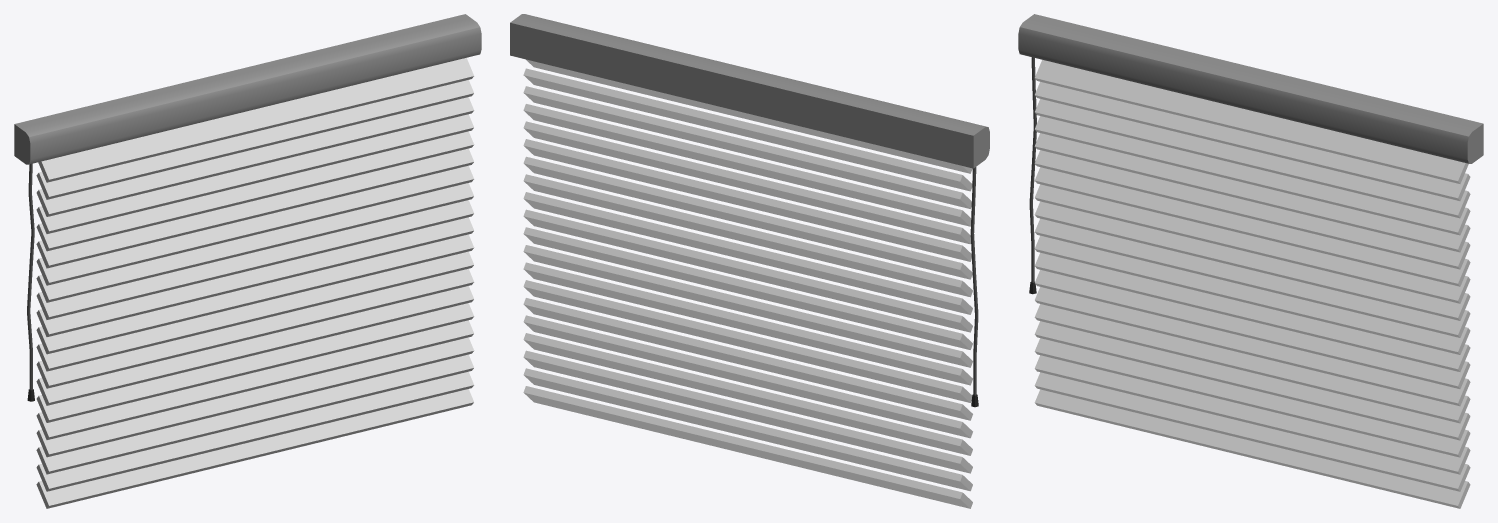
File: mesh_window.fbx
3 views of the same model, side by side, from view 1: azimuth 30°, elevation 25°; view 2: azimuth 150°, elevation 25°; view 3: azimuth 330°, elevation 25° (orthographic). The views are drawn at different scales.
Parts seen in each view (by area): view 1: pCube233; view 2: pCube233; view 3: pCube233.
Boxes of the visible parts, x1=… form: pCube233: x1=14, y1=14, x2=481, y2=508; pCube233: x1=510, y1=14, x2=989, y2=508; pCube233: x1=1018, y1=14, x2=1483, y2=508.
Bounding box in the file's own units: 51.04 × 40.9 × 3.37.
